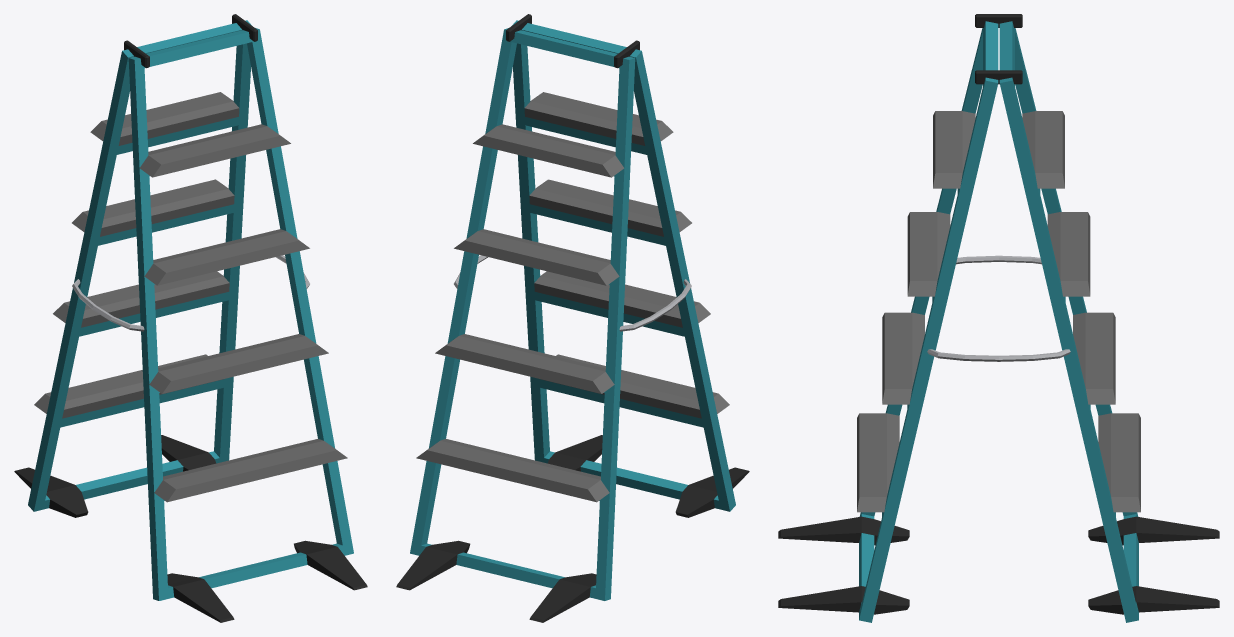
Rendered from Stepladder.fbx.
The picture shows the model from 3 angles, left to right: view 1: azimuth 30°, elevation 25°; view 2: azimuth 150°, elevation 25°; view 3: azimuth 270°, elevation 25°; orthographic projection. The views are drawn at different scales.
Visible parts, largest first — view 1: Stepladder; view 2: Stepladder; view 3: Stepladder.
Part boxes in pixels (x1,y1,x2,y2): Stepladder: (14, 14, 367, 622); Stepladder: (396, 14, 749, 622); Stepladder: (778, 14, 1219, 622).
Size of the model in its own units: 70.41 by 169 by 128.
